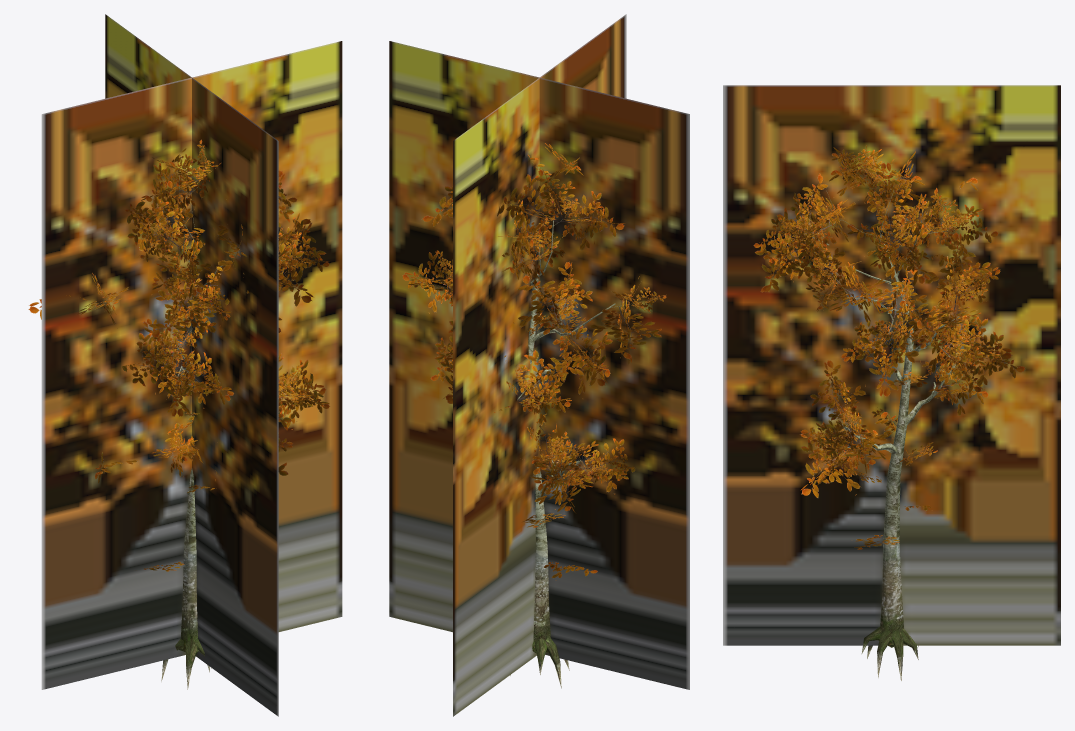
The model's file is Tree-Beech2B.fbx.
3 renders of one model, left to right at view 1: azimuth 30°, elevation 25°; view 2: azimuth 150°, elevation 25°; view 3: azimuth 270°, elevation 25°, orthographic. The views are drawn at different scales.
Visible parts, largest first — view 1: Billboard-BeechB, Tree-Beech2B_LOD0; view 2: Billboard-BeechB, Tree-Beech2B_LOD0; view 3: Billboard-BeechB, Tree-Beech2B_LOD0.
Part boxes in pixels (x1,y1,x2,y2): Billboard-BeechB: [41, 14, 342, 716]; Tree-Beech2B_LOD0: [28, 139, 329, 689]; Billboard-BeechB: [389, 14, 689, 716]; Tree-Beech2B_LOD0: [402, 143, 666, 688]; Billboard-BeechB: [723, 85, 1060, 645]; Tree-Beech2B_LOD0: [753, 145, 1025, 680].
Size of what is drawn, in the model's own units: 1713 by 3241 by 1694.
